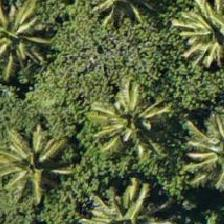coconut_tree: (72, 67, 162, 157), (0, 120, 73, 210), (170, 106, 223, 196), (0, 0, 55, 74), (170, 0, 223, 74)
